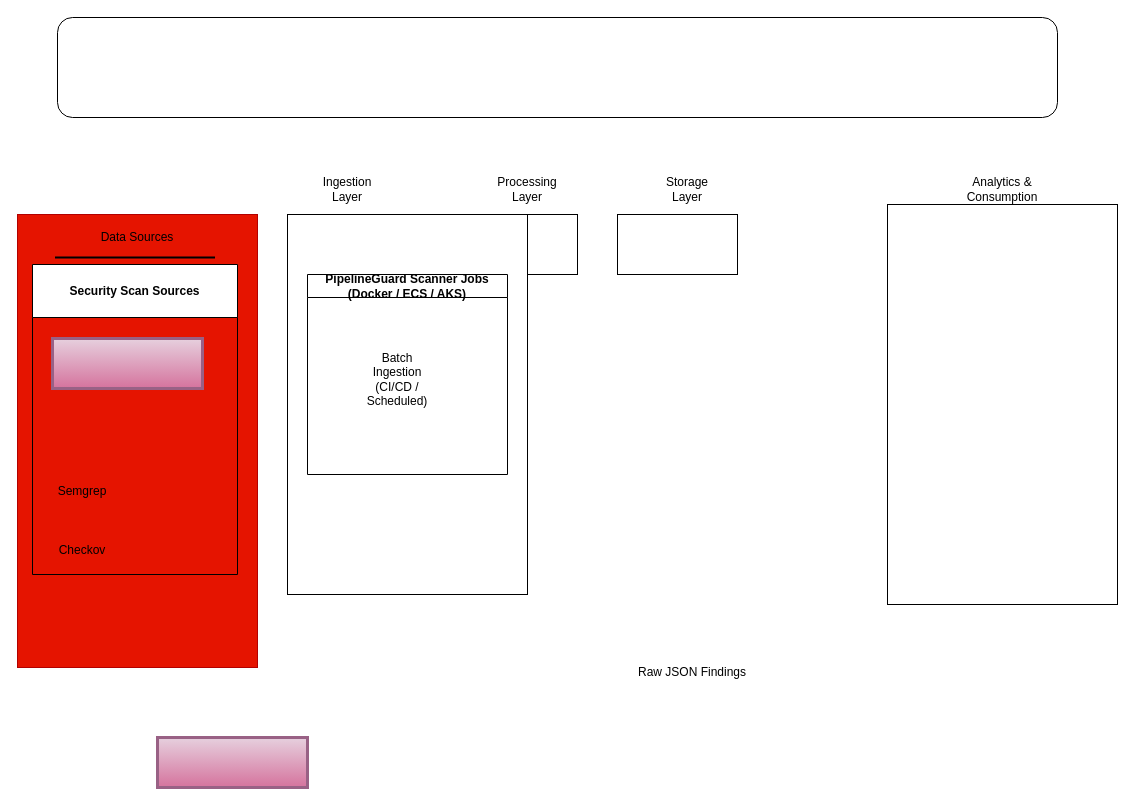
Image size: 1135x806. Some labels were removed from this diagram. The shapes that lost their labels are listed below. From the top down, each one's centre as x and y in pixels, then its label:
the point at 127,363: Gitleaks
the point at 232,762: Trivy
